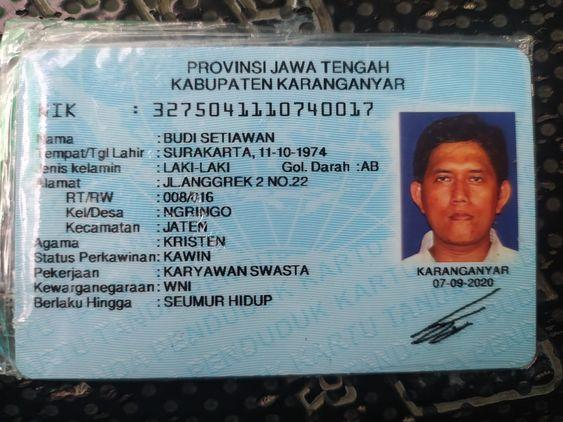ID-card: (21, 50, 534, 372)
